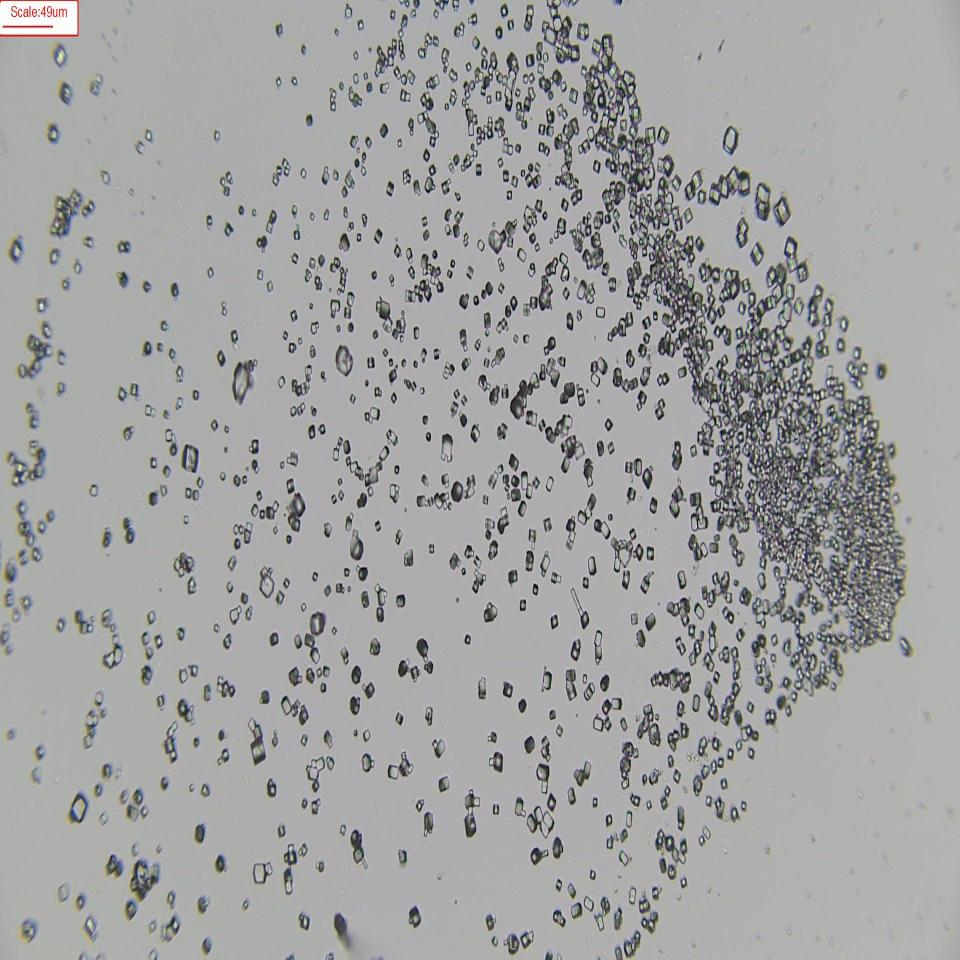crystal: (332, 345, 358, 381), (68, 791, 89, 825), (439, 431, 456, 465), (774, 194, 792, 225), (180, 443, 198, 473), (250, 736, 269, 764), (722, 125, 738, 155), (82, 914, 98, 942), (736, 167, 751, 196), (259, 575, 276, 600), (252, 860, 268, 886), (565, 668, 578, 700), (52, 43, 68, 69), (308, 613, 325, 636), (750, 240, 765, 265), (334, 912, 348, 938), (351, 534, 364, 562), (293, 492, 307, 517), (452, 477, 465, 503), (796, 260, 810, 284), (505, 932, 519, 955), (376, 297, 390, 320), (432, 737, 446, 759), (536, 762, 550, 784), (709, 183, 722, 206), (490, 750, 503, 773), (644, 124, 657, 147), (524, 50, 538, 71), (552, 835, 564, 859), (784, 236, 797, 258), (541, 666, 552, 692), (140, 664, 153, 686), (124, 899, 137, 921), (595, 438, 606, 464), (386, 763, 401, 782), (593, 714, 608, 733), (416, 636, 430, 656), (527, 810, 539, 833), (214, 853, 227, 874), (524, 3, 534, 30), (194, 822, 206, 844), (530, 844, 542, 866), (101, 526, 113, 548), (605, 434, 617, 456), (409, 905, 422, 925), (197, 894, 210, 914), (361, 752, 374, 772), (284, 868, 294, 894), (470, 33, 483, 53), (642, 467, 653, 490), (658, 125, 670, 146), (57, 882, 69, 903), (396, 657, 408, 678), (603, 416, 617, 434), (576, 22, 589, 41), (35, 296, 48, 315), (82, 730, 95, 749), (298, 911, 310, 931), (540, 552, 550, 576), (875, 361, 887, 381), (21, 594, 33, 614), (101, 608, 113, 628), (269, 631, 283, 648), (587, 554, 598, 575), (547, 791, 558, 812), (350, 696, 361, 717), (351, 664, 362, 685), (757, 569, 768, 590), (644, 612, 656, 631), (101, 762, 113, 781), (393, 593, 408, 608), (497, 1, 511, 17), (202, 936, 213, 956), (595, 910, 605, 932), (339, 232, 350, 252), (564, 310, 575, 330), (438, 775, 450, 793), (34, 742, 46, 760), (49, 247, 61, 265), (694, 603, 706, 621), (694, 235, 706, 253), (293, 632, 303, 653), (524, 735, 535, 754), (501, 680, 514, 696), (82, 234, 95, 250), (304, 630, 316, 647), (515, 796, 525, 816), (166, 889, 176, 909), (696, 188, 707, 206), (649, 494, 658, 516), (379, 444, 390, 462), (373, 227, 384, 245), (478, 677, 487, 699), (571, 902, 582, 920), (730, 804, 741, 822), (132, 788, 143, 806), (310, 646, 321, 664), (470, 425, 480, 444), (677, 570, 687, 589), (486, 912, 496, 931), (187, 576, 197, 595), (569, 86, 579, 105), (276, 589, 286, 608), (619, 849, 630, 866), (583, 895, 594, 912), (142, 340, 153, 357), (31, 545, 42, 562), (148, 490, 159, 507), (685, 183, 696, 200), (364, 682, 375, 699), (690, 171, 704, 184), (267, 778, 276, 798), (94, 690, 104, 708), (144, 403, 156, 418), (122, 426, 134, 441), (592, 156, 602, 174), (286, 476, 296, 494), (522, 301, 531, 320), (794, 297, 804, 314), (590, 372, 601, 387), (562, 287, 573, 302), (484, 281, 495, 296), (386, 180, 395, 198), (529, 294, 538, 312), (684, 207, 694, 223), (517, 698, 527, 714), (216, 350, 226, 366), (100, 169, 110, 185), (379, 123, 389, 139), (160, 775, 170, 791), (747, 745, 757, 761), (342, 439, 352, 455), (308, 424, 318, 440), (395, 711, 405, 727), (509, 296, 519, 312), (629, 612, 640, 626), (130, 382, 139, 399), (398, 848, 407, 865), (667, 863, 676, 880), (518, 247, 527, 264), (560, 197, 569, 214), (519, 595, 528, 612), (551, 613, 560, 630), (56, 381, 66, 396), (55, 618, 65, 633), (596, 305, 606, 320), (786, 282, 795, 298), (672, 173, 680, 191), (628, 886, 636, 904), (176, 626, 185, 642), (170, 282, 179, 298), (476, 237, 485, 253), (475, 161, 483, 179), (463, 631, 472, 647), (256, 268, 265, 284), (370, 406, 380, 420), (322, 664, 332, 678), (840, 315, 848, 332), (646, 545, 655, 560), (144, 128, 153, 143), (99, 811, 108, 826), (74, 259, 82, 275), (770, 632, 778, 648), (201, 783, 210, 797), (510, 174, 518, 189), (538, 121, 546, 136), (319, 422, 327, 437), (278, 374, 285, 391), (222, 748, 230, 762), (522, 333, 532, 344), (185, 486, 192, 501), (206, 266, 214, 279), (506, 188, 513, 202), (311, 569, 319, 581), (320, 682, 327, 695), (493, 803, 500, 815), (317, 667, 323, 679)
not_crystal: (160, 914, 180, 943), (105, 852, 123, 878), (736, 216, 750, 248), (484, 602, 498, 623), (553, 908, 565, 927)
